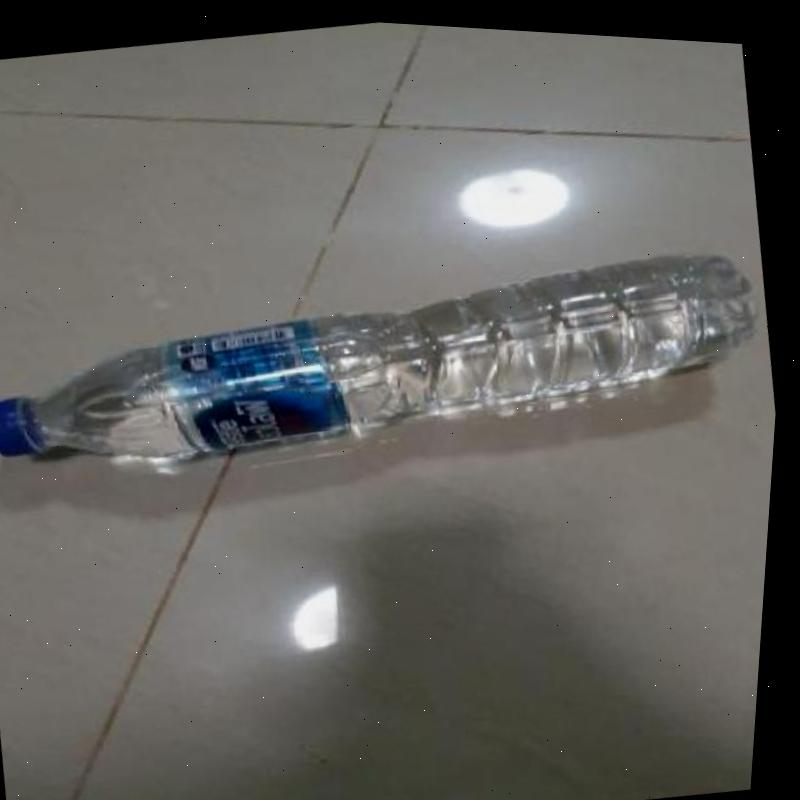botella: (0, 200, 777, 514)
